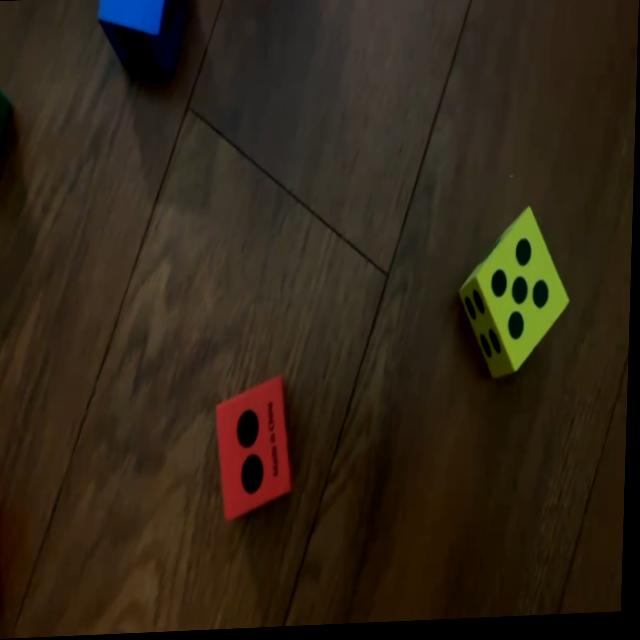blue_block: (97, 0, 185, 76)
red_block: (216, 379, 299, 520)
